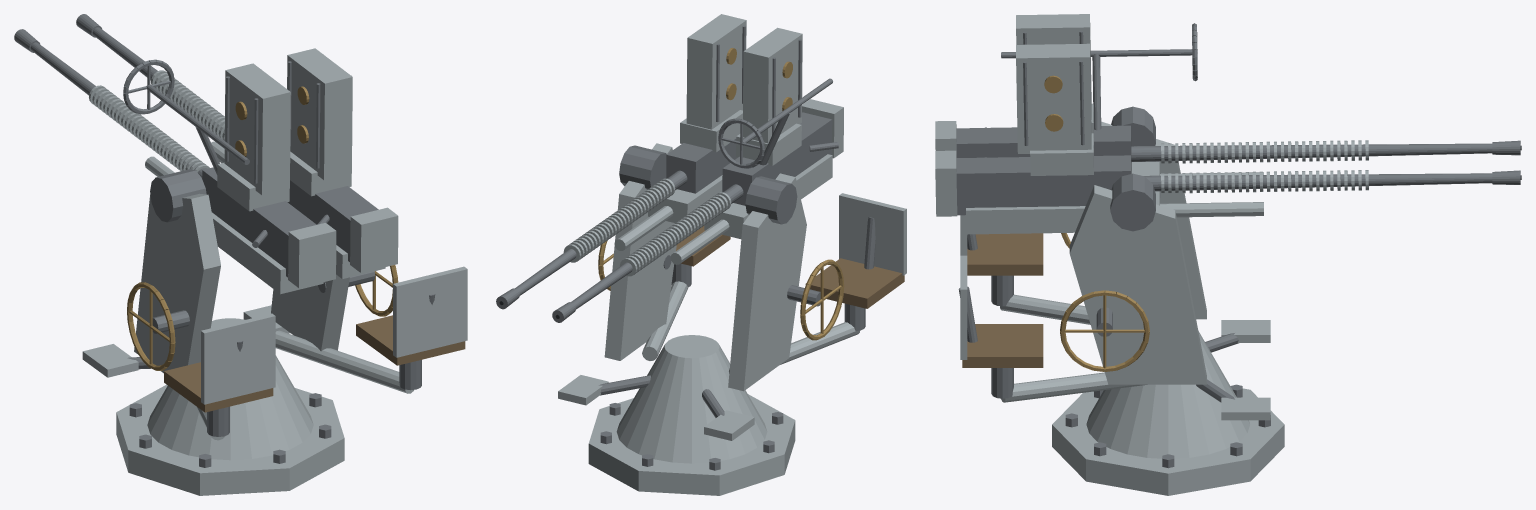
3 renders of one model, left to right at view 1: azimuth 30°, elevation 25°; view 2: azimuth 150°, elevation 25°; view 3: azimuth 270°, elevation 25°, orthographic. The views are drawn at different scales.
Visible parts, largest first — view 1: component.yaw.mesh, component.left.recoil.mesh, component.right.recoil.mesh, component.base.mesh, component.left.elevation.mesh, component.right.elevation.mesh; view 2: component.yaw.mesh, component.left.recoil.mesh, component.right.recoil.mesh, component.base.mesh, component.left.elevation.mesh, component.right.elevation.mesh; view 3: component.yaw.mesh, component.right.recoil.mesh, component.left.recoil.mesh, component.base.mesh, component.right.elevation.mesh, component.left.elevation.mesh.
Boxes of the visible parts, x1,y1,x2,y2 form: component.yaw.mesh: [82, 169, 467, 460]; component.left.recoil.mesh: [14, 29, 336, 287]; component.right.recoil.mesh: [76, 14, 398, 272]; component.base.mesh: [116, 384, 344, 495]; component.left.elevation.mesh: [123, 59, 323, 294]; component.right.elevation.mesh: [211, 141, 385, 278]; component.yaw.mesh: [558, 143, 906, 463]; component.left.recoil.mesh: [552, 27, 843, 322]; component.right.recoil.mesh: [496, 14, 746, 309]; component.base.mesh: [588, 394, 795, 495]; component.left.elevation.mesh: [670, 78, 832, 264]; component.right.elevation.mesh: [614, 175, 722, 250]; component.yaw.mesh: [958, 106, 1270, 458]; component.right.recoil.mesh: [935, 43, 1521, 216]; component.left.recoil.mesh: [935, 14, 1521, 173]; component.base.mesh: [1052, 384, 1284, 495]; component.right.elevation.mesh: [966, 191, 1263, 234]; component.left.elevation.mesh: [1001, 23, 1263, 201].
Size of the model in its own units: 0.85 by 1.29 by 1.66.
